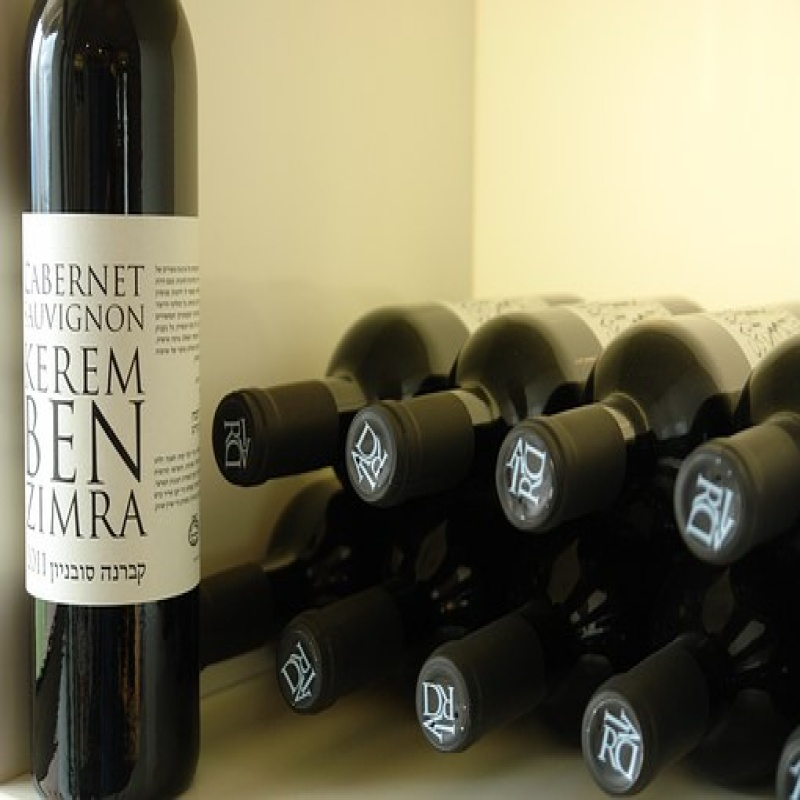wine: (25, 4, 206, 800), (217, 303, 488, 477)
